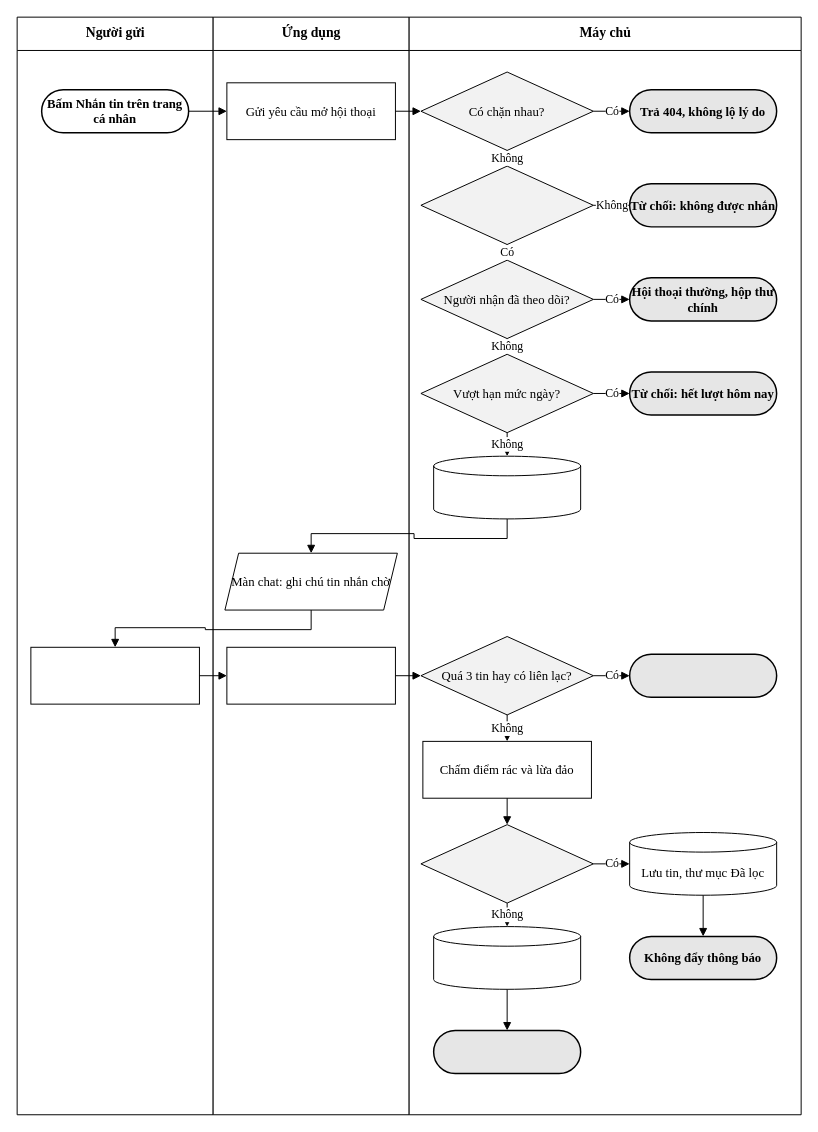
Some shapes in this 818 by 1132 pixel diagram are drawn without their labels. Here are the shapes that lost their labels. From the top down, the centre of each, then its label:
At [506,205]: "Người nhận cho phép?".
At [507,487]: "Tạo Conversation PENDING".
At [114,675]: "Nhập tin chữ, bấm Gửi".
At [310,675]: "Gửi tin kèm clientId".
At [702,675]: "Từ chối, app nêu lý do".
At [506,863]: "Điểm từ ngưỡng lọc?".
At [507,957]: "Lưu tin, thư mục Tin nhắn chờ".
At [506,1051]: "Đẩy: Muốn nhắn tin cho bạn".
